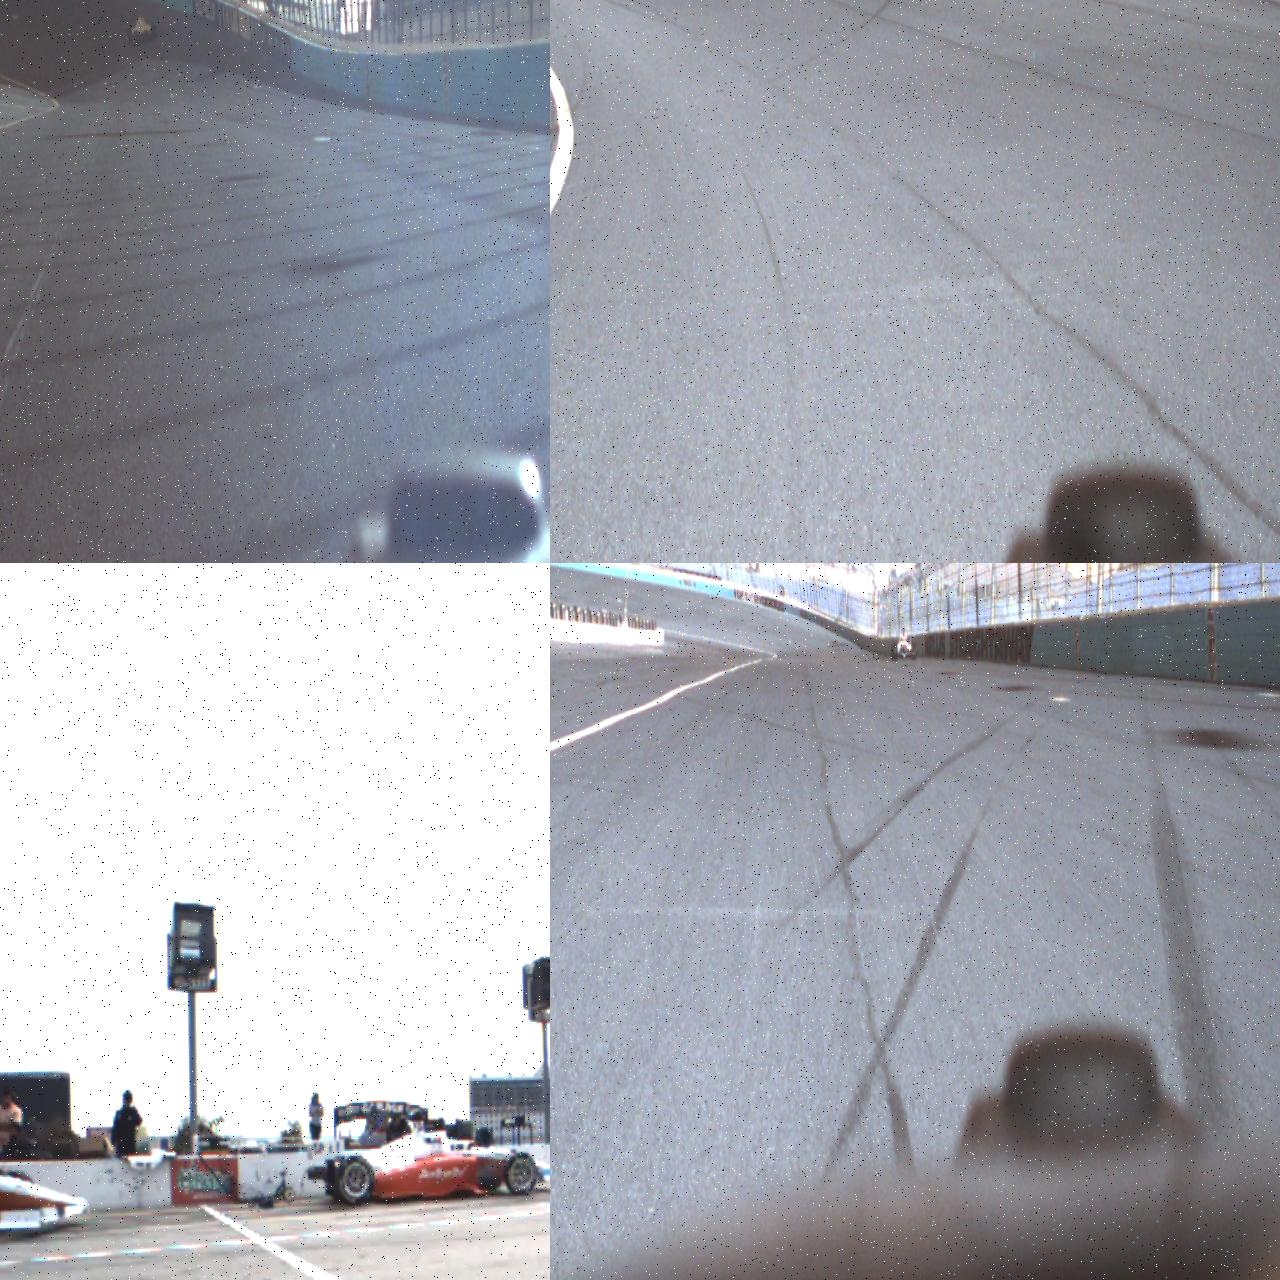AV: (324, 1105, 550, 1206), (0, 1149, 90, 1242), (125, 12, 157, 48), (891, 627, 917, 660)
Wheel: (338, 1155, 375, 1206), (505, 1148, 538, 1197), (134, 30, 139, 48), (892, 642, 898, 660), (912, 642, 917, 660), (129, 28, 132, 45), (152, 23, 156, 40)
